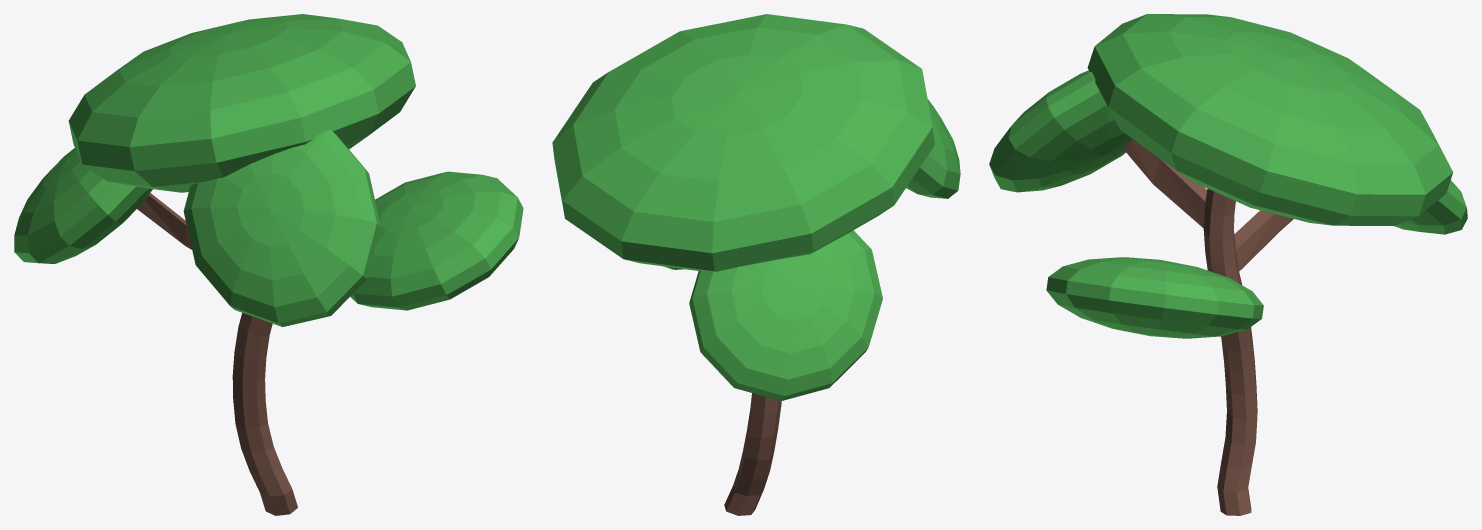
The picture shows the model from 3 angles, left to right: view 1: azimuth 30°, elevation 25°; view 2: azimuth 150°, elevation 25°; view 3: azimuth 270°, elevation 25°; orthographic projection. The views are drawn at different scales.
Visible parts, largest first — view 1: mesh_941091843, mesh_204332536, mesh_1197457392, mesh_1789602260, group_930443661; view 2: mesh_941091843, mesh_1789602260, group_930443661, mesh_204332536; view 3: mesh_941091843, mesh_1197457392, group_930443661, mesh_204332536, mesh_1789602260.
Part boxes in pixels (x1,y1,x2,y2): mesh_941091843: (68,14,415,192); mesh_204332536: (183,129,380,326); mesh_1197457392: (350,171,523,310); mesh_1789602260: (14,148,152,263); group_930443661: (137,193,297,515); mesh_941091843: (552,14,934,271); mesh_1789602260: (689,230,882,400); group_930443661: (724,393,781,515); mesh_204332536: (906,99,960,198); mesh_941091843: (1087,14,1453,225); mesh_1197457392: (1046,257,1263,338); group_930443661: (1122,139,1293,515); mesh_204332536: (989,70,1132,192); mesh_1789602260: (1394,180,1467,234).
Bounding box in the file's own units: 90.73 × 110 × 104.
